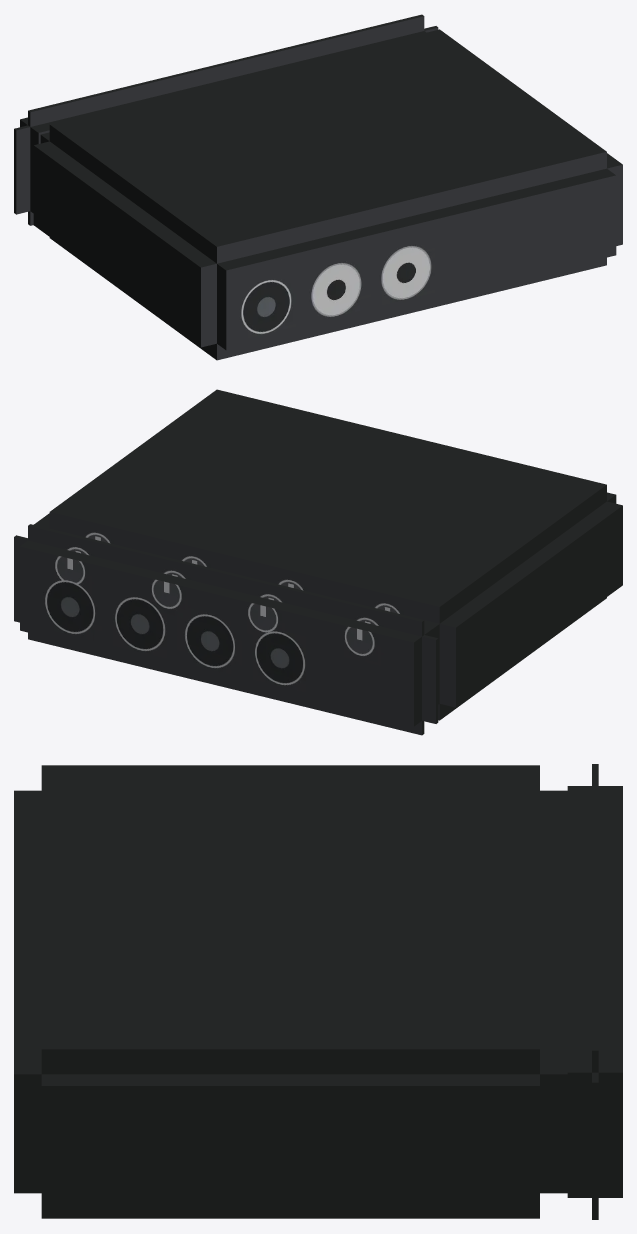
Rendered from rolls-ha43-pro.glb.
3 views of the same model, one above another, from view 1: azimuth 30°, elevation 25°; view 2: azimuth 150°, elevation 25°; view 3: azimuth 270°, elevation 25° (orthographic). The views are drawn at different scales.
Parts seen in each view (by area): view 1: rolls-ha43-pro-body; view 2: rolls-ha43-pro-body; view 3: rolls-ha43-pro-body.
Part boxes in pixels (x1,y1,x2,y2): rolls-ha43-pro-body: (14,14,622,360); rolls-ha43-pro-body: (14,389,622,735); rolls-ha43-pro-body: (14,764,622,1219).
Bounding box in the file's own units: 0.105 × 0.029 × 0.088.
1 material, 1 textured.
